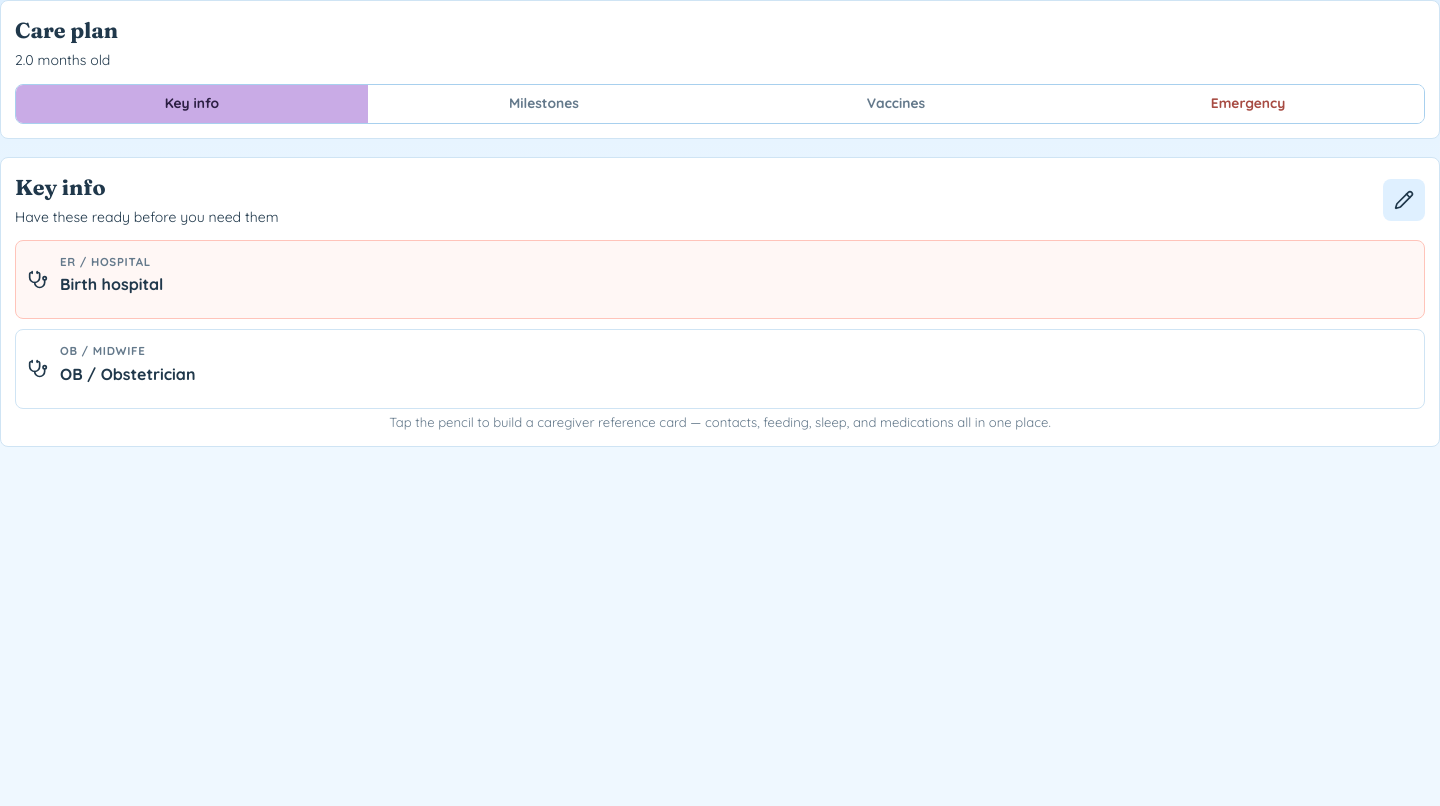
Test: Care tabs › opens the emergency guide on the child’s own age group
The width and height of the screenshot is (1440, 806).
Click the tab "Emergency" at coordinates (1248, 104), box [1072,84,1424,122]
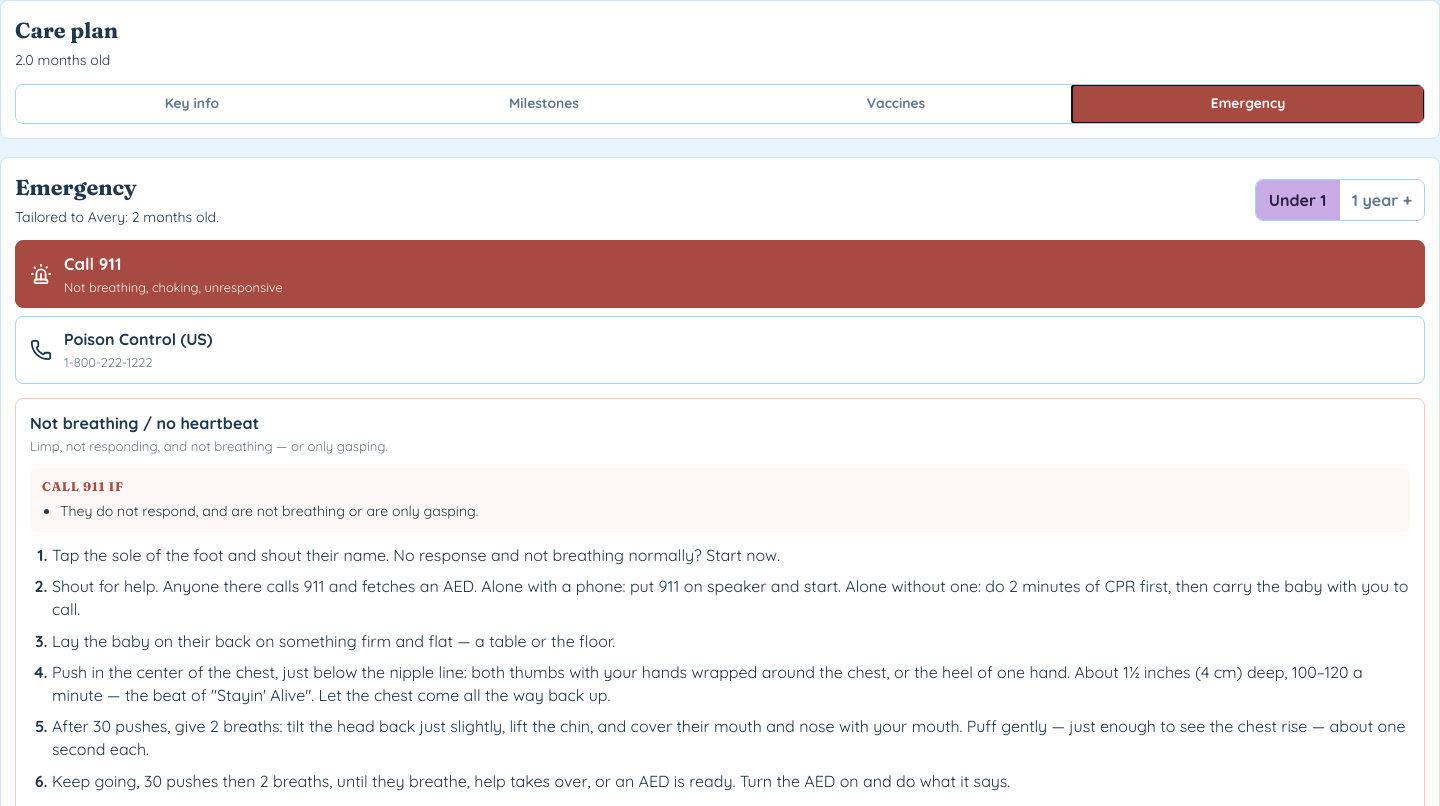
Expected: the text "Tailored to Avery: 2 months old." is shown, [15,208,219,226]
Click the button "1 year +" at coordinates (1382, 200), box [1340,180,1424,220]
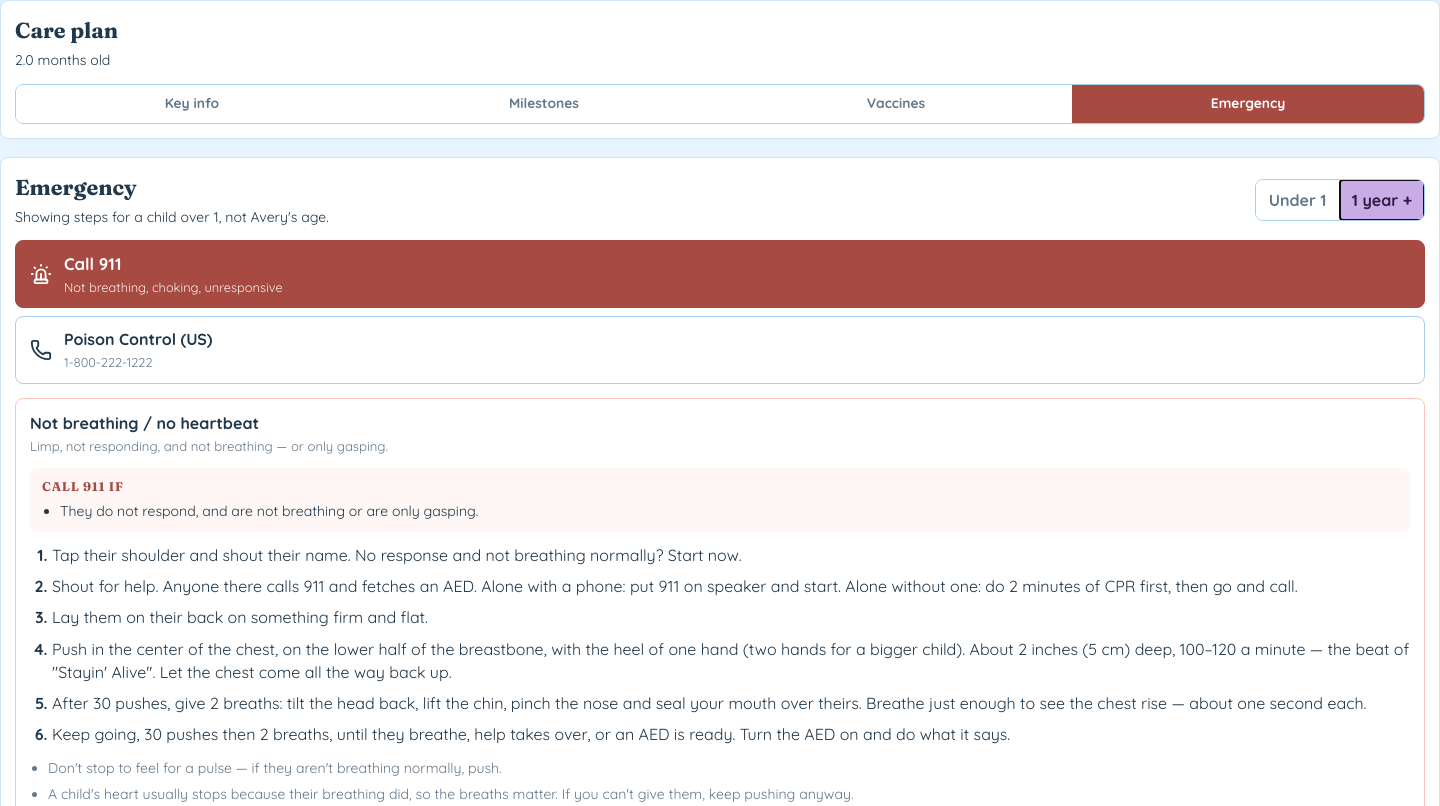
Expected: the text "Showing steps for a child over 1, not Avery's age." is shown, [15,208,329,226]
